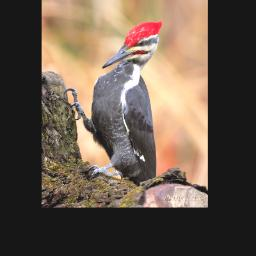Woodpecker: (63, 20, 162, 185)
